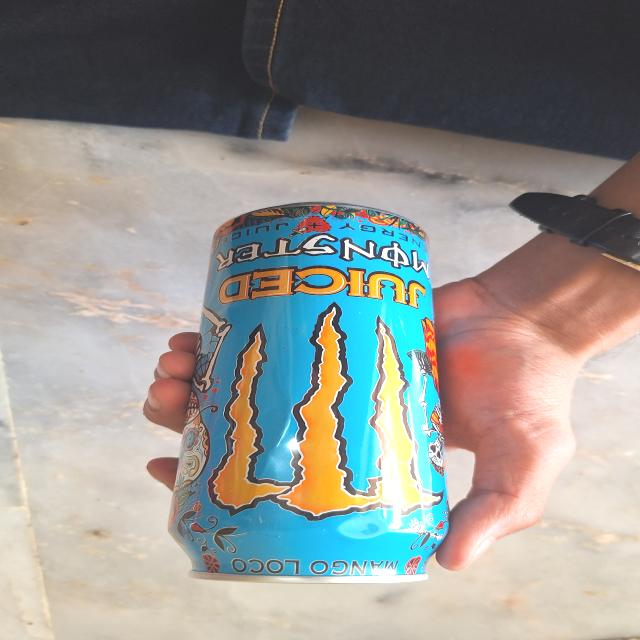Monster Mango Loco: (178, 203, 462, 585)
